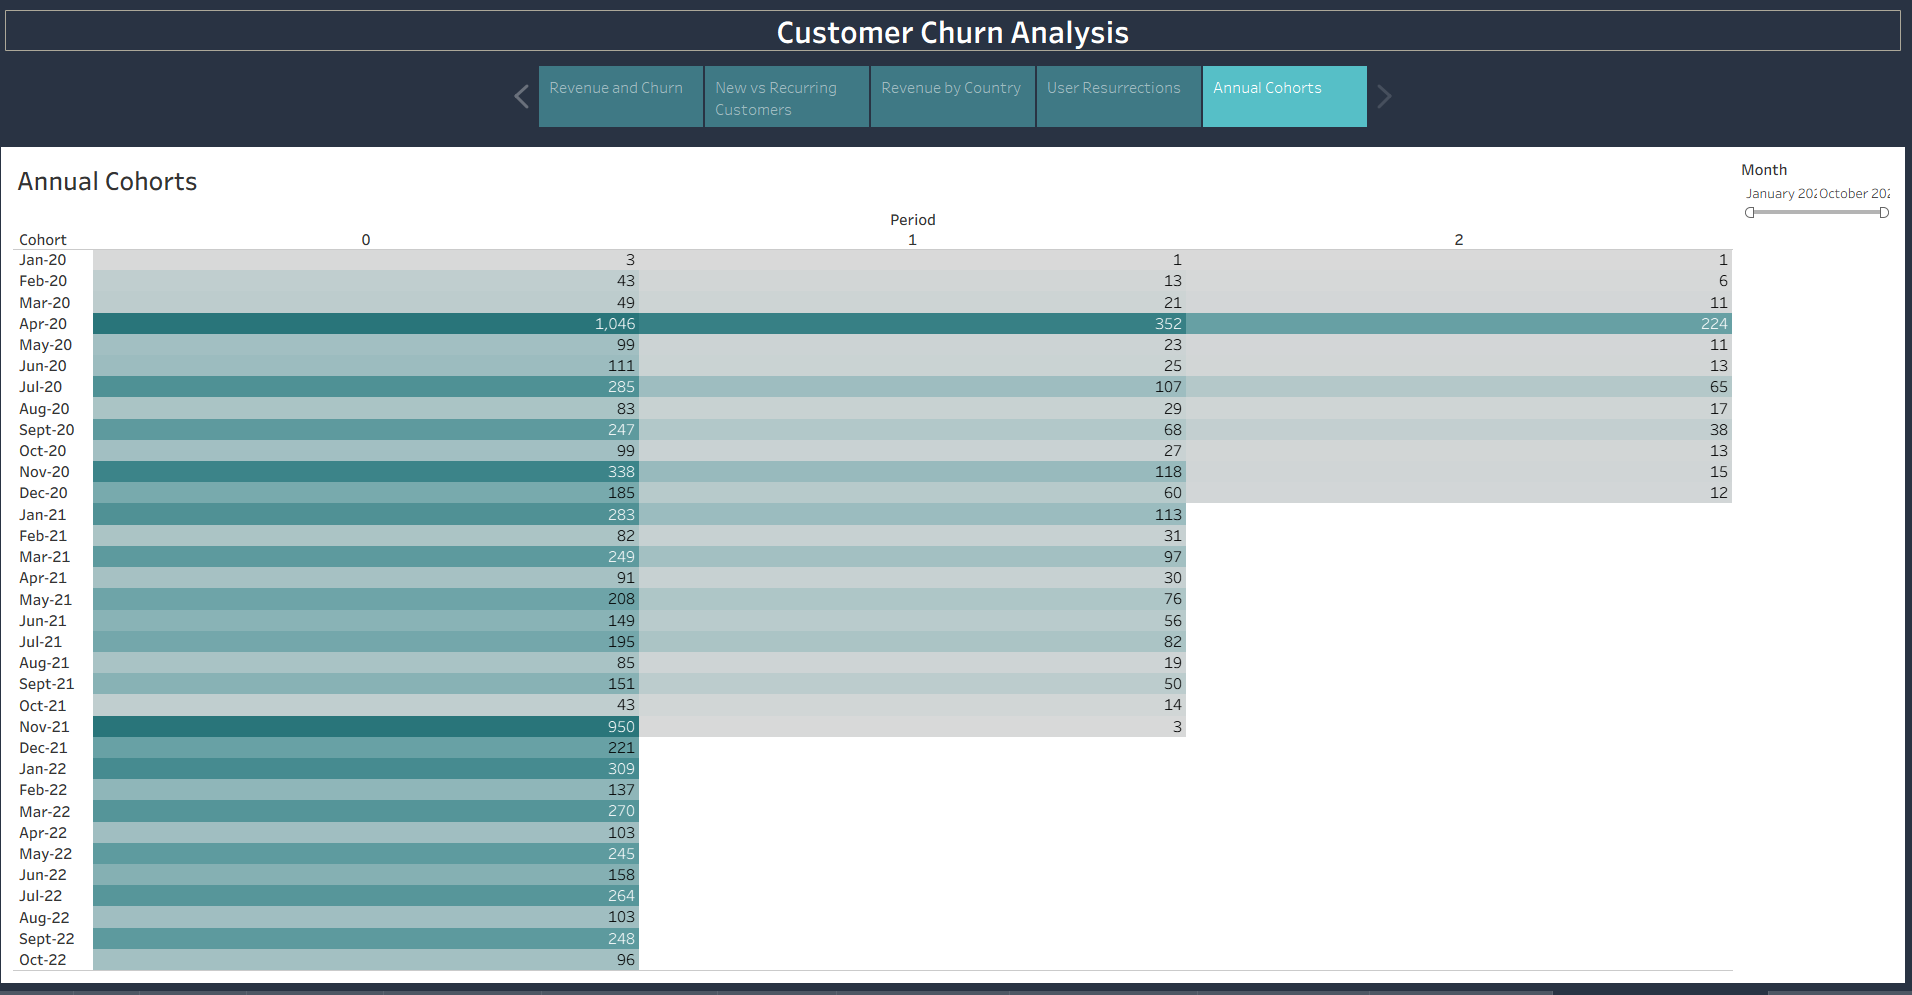

This screenshot's page, from the dashboard's own definition file:
{"tool":"tableau","page":{"name":"Annual Cohort Study","canvas":[1000,1000],"units":"permille","ordinal":0},"visuals":[{"type":"worksheet","title":"Annual Cohort","mark":"Square","rows":["Calculation_124974943404888088"],"cols":["Calculation_124974943405121561"],"box":[4.8,10,893.8,980]},{"type":"filter","title":"Annual Cohort","param":"[federated.0p6q4331757uhn1ec43di1ajux4w].[none:Month:qk]","box":[898.6,10,96.6,91.1]}]}

Visuals, with their boxes on the dashboard's canvas, which has no fixed pixel size, in thousandths of its width and height (x1, y1, x2, y2). These are canvas units, not pixel positions in the 1912x995 screenshot, which may show the page scaled, cropped or inside an application window:
"Annual Cohort" worksheet (Square marks): {"left": 5, "top": 10, "right": 899, "bottom": 990}
"Annual Cohort" filter: {"left": 899, "top": 10, "right": 995, "bottom": 101}
